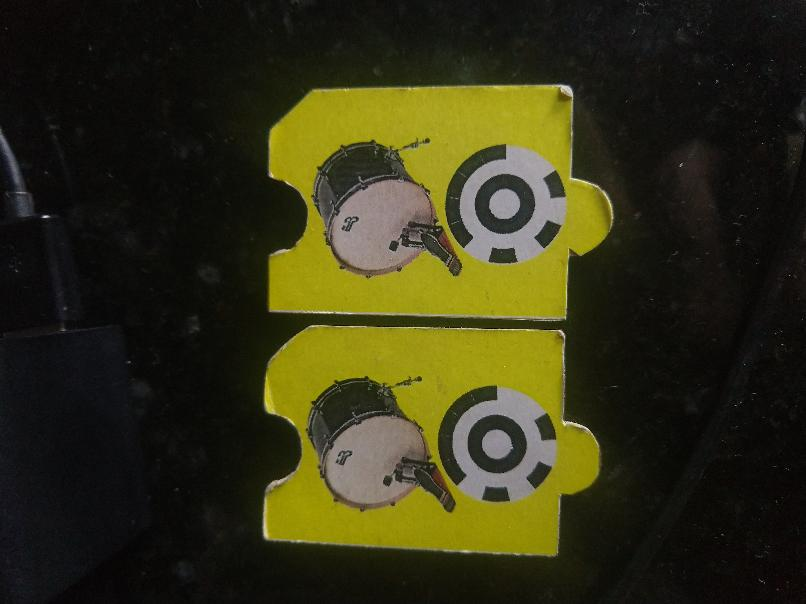bumbo: (265, 85, 615, 324), (264, 329, 610, 560)
